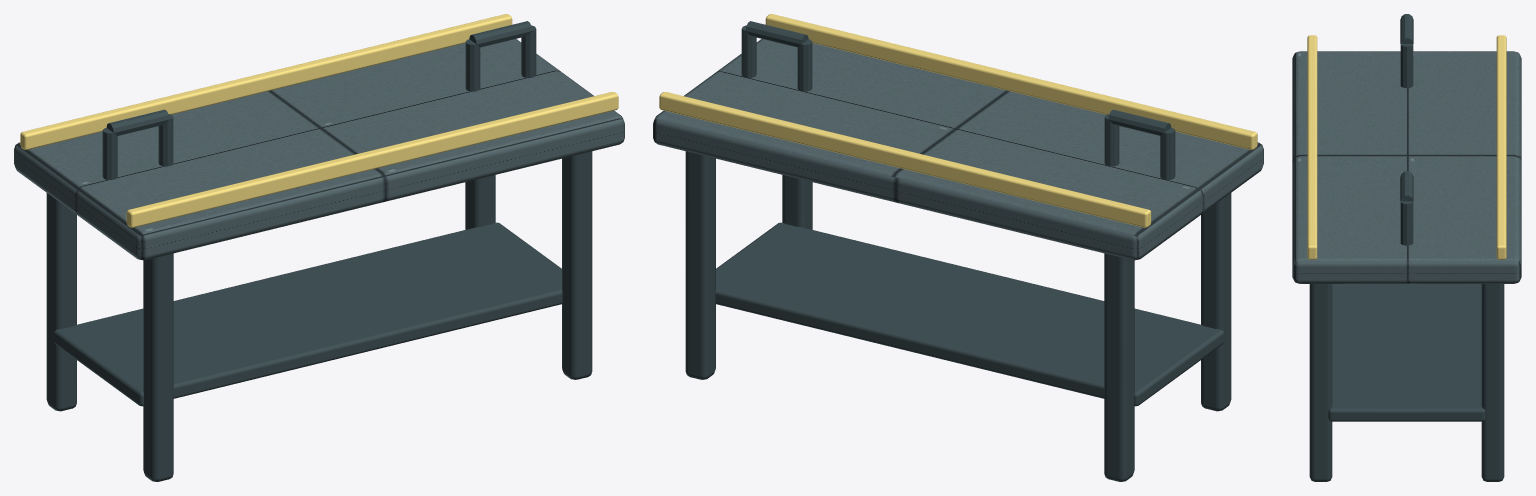
File: diver-equipment-bench.glb
3 views of the same model, side by side, from view 1: azimuth 30°, elevation 25°; view 2: azimuth 150°, elevation 25°; view 3: azimuth 270°, elevation 25° (orthographic). The views are drawn at different scales.
Parts seen in each view (by area): view 1: diver-equipment-bench; view 2: diver-equipment-bench; view 3: diver-equipment-bench.
Boxes of the visible parts, x1,y1,x2,y2 form: diver-equipment-bench: [14, 14, 624, 481]; diver-equipment-bench: [653, 14, 1263, 481]; diver-equipment-bench: [1292, 14, 1521, 481].
Size of the model in its own units: 1.75 by 1.09 by 0.7999.
3 materials, 1 textured.
